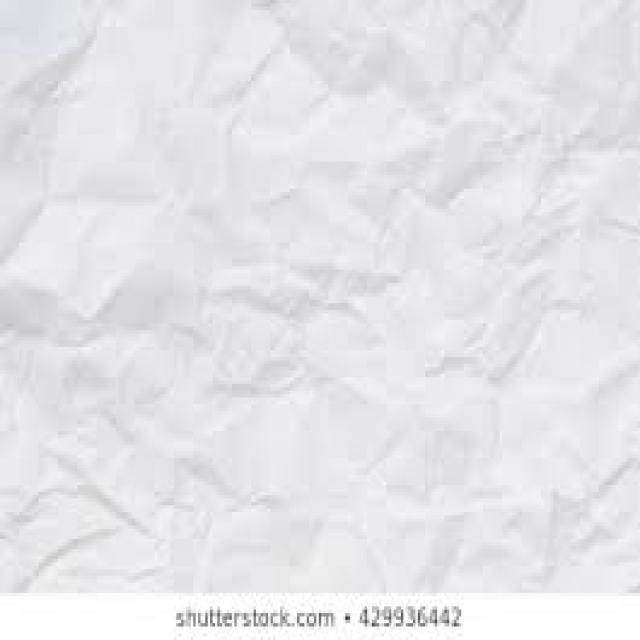paper: (0, 0, 638, 586)
